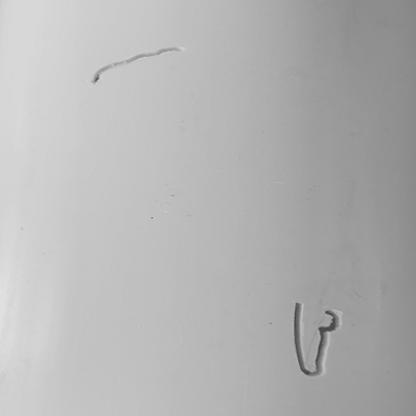fengxi: (290, 300, 342, 377), (89, 46, 182, 87)
